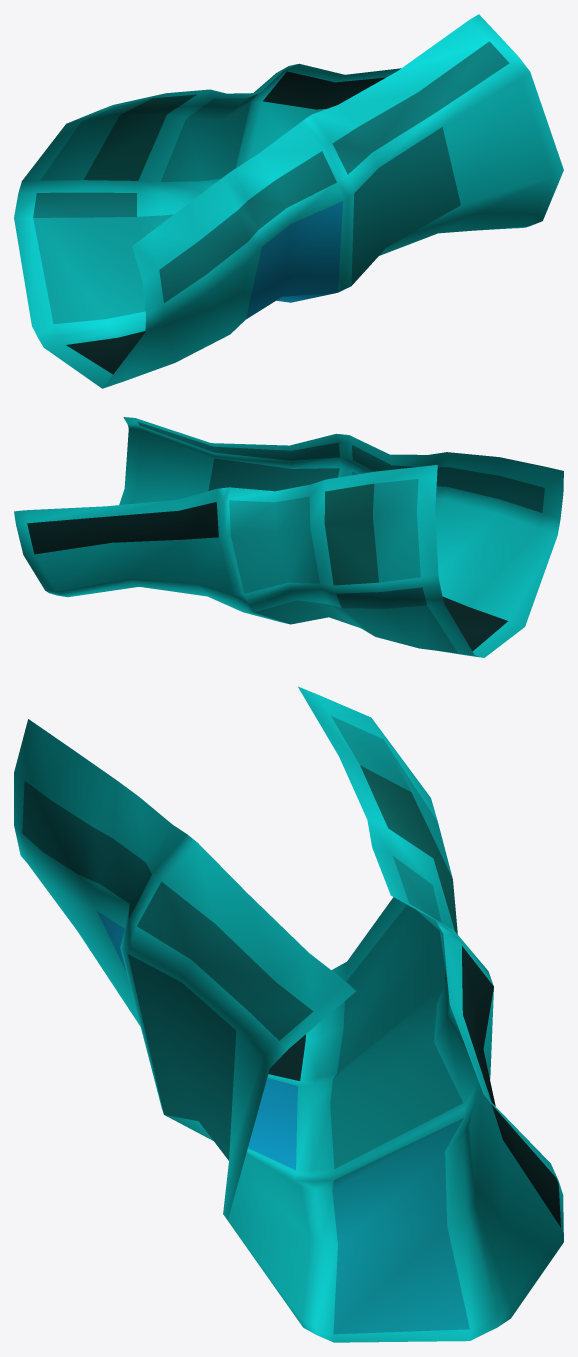
The model's file is OldNewspaper005.glb.
3 views of the same model, one above another, from view 1: azimuth 30°, elevation 25°; view 2: azimuth 150°, elevation 25°; view 3: azimuth 270°, elevation 25° (orthographic). The views are drawn at different scales.
Visible parts, largest first — view 1: OldNewspaper005; view 2: OldNewspaper005; view 3: OldNewspaper005.
Boxes of the visible parts, x1=… form: OldNewspaper005: x1=14, y1=14, x2=563, y2=388; OldNewspaper005: x1=14, y1=417, x2=563, y2=657; OldNewspaper005: x1=14, y1=686, x2=563, y2=1342.
Size of the model in its own units: 0.1008 by 0.0437 by 0.0611.
